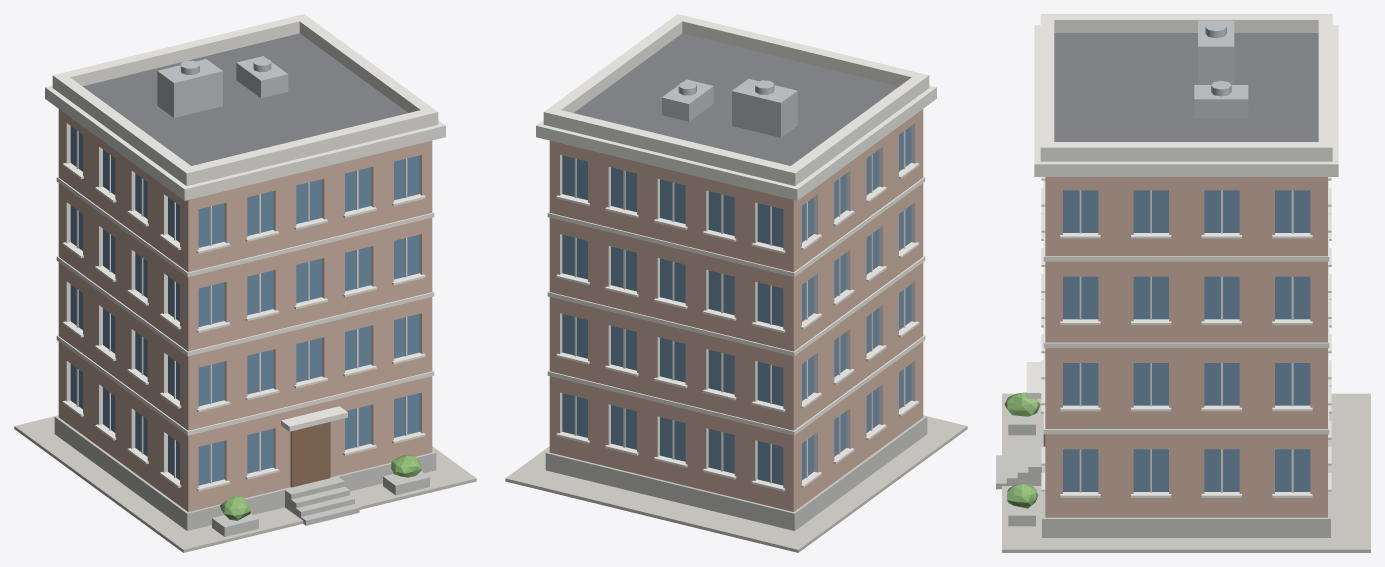
The picture shows the model from 3 angles, left to right: view 1: azimuth 30°, elevation 25°; view 2: azimuth 150°, elevation 25°; view 3: azimuth 270°, elevation 25°; orthographic projection. The views are drawn at different scales.
Parts seen in each view (by area): view 1: r_2_1_d; view 2: r_2_1_d; view 3: r_2_1_d.
Boxes of the visible parts, x1=… form: r_2_1_d: x1=14, y1=14, x2=476, y2=552; r_2_1_d: x1=505, y1=14, x2=967, y2=552; r_2_1_d: x1=996, y1=14, x2=1370, y2=552.
Size of the model in its own units: 12 by 15.3 by 12.2.
